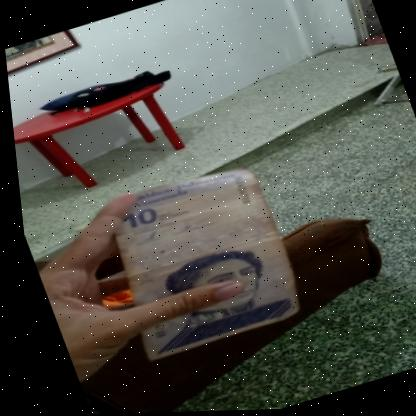ten-front-vef: (85, 157, 302, 362)
